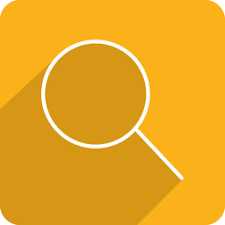searchIcon: (40, 39, 187, 183)
